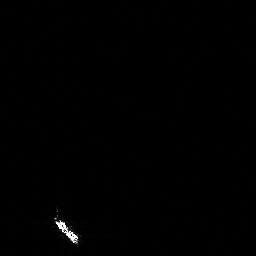ship: (50, 208, 83, 248)
